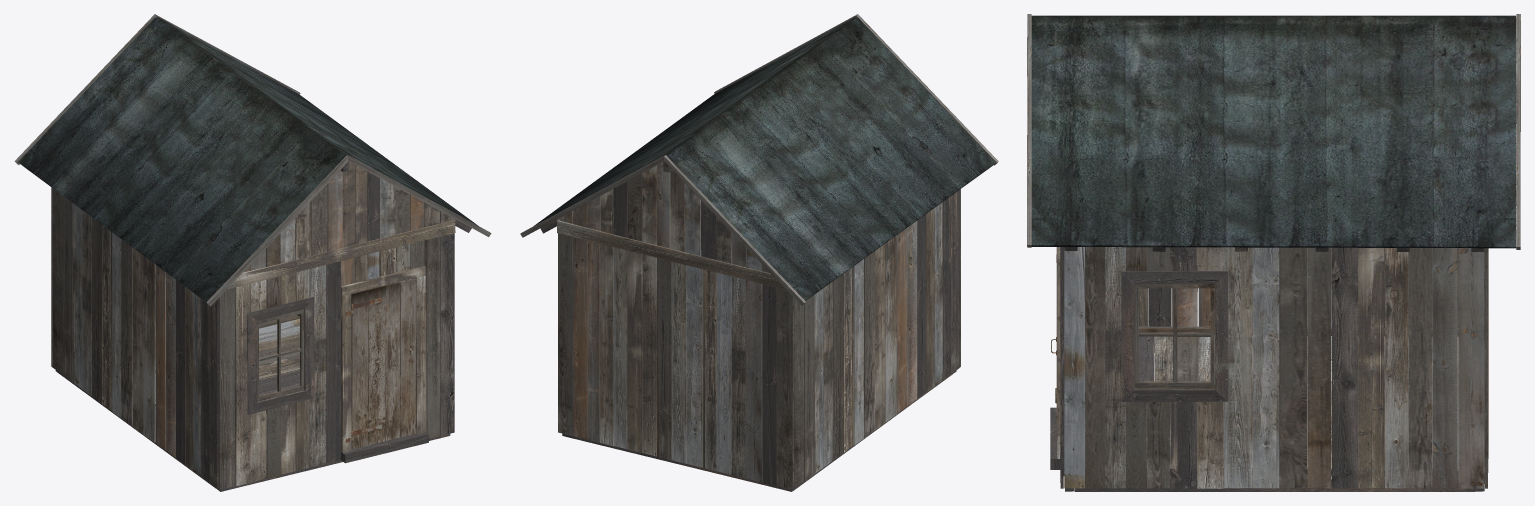
The model's file is wooden_cabin.glb.
3 views of the same model, side by side, from view 1: azimuth 30°, elevation 25°; view 2: azimuth 150°, elevation 25°; view 3: azimuth 270°, elevation 25° (orthographic). The views are drawn at different scales.
Parts seen in each view (by area): view 1: Base, Door; view 2: Base; view 3: Base.
Boxes of the visible parts, bbox=[...] form: Base: bbox=[14, 14, 491, 491]; Door: bbox=[351, 278, 416, 448]; Base: bbox=[520, 14, 998, 491]; Base: bbox=[1027, 14, 1520, 491].
Bounding box in the file's own units: 299 × 320 × 353.
1 material, 1 textured.
